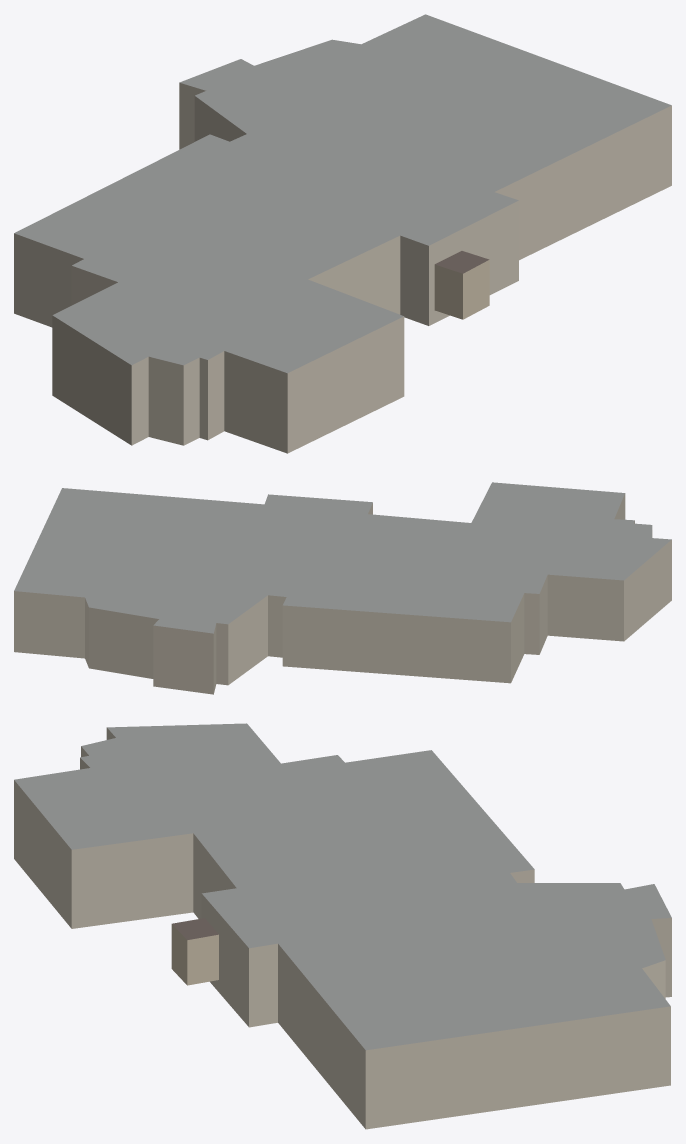
3 views of the same model, one above another, from view 1: azimuth 30°, elevation 25°; view 2: azimuth 150°, elevation 25°; view 3: azimuth 270°, elevation 25° (orthographic). The views are drawn at different scales.
Visible parts, largest first — view 1: tuile; view 2: tuile; view 3: tuile.
Boxes of the visible parts, x1,y1,x2,y2 form: tuile: (14,14,671,453); tuile: (14,482,671,694); tuile: (14,723,671,1129).
Bounding box in the file's own units: 75 × 8.47 × 63.8.
